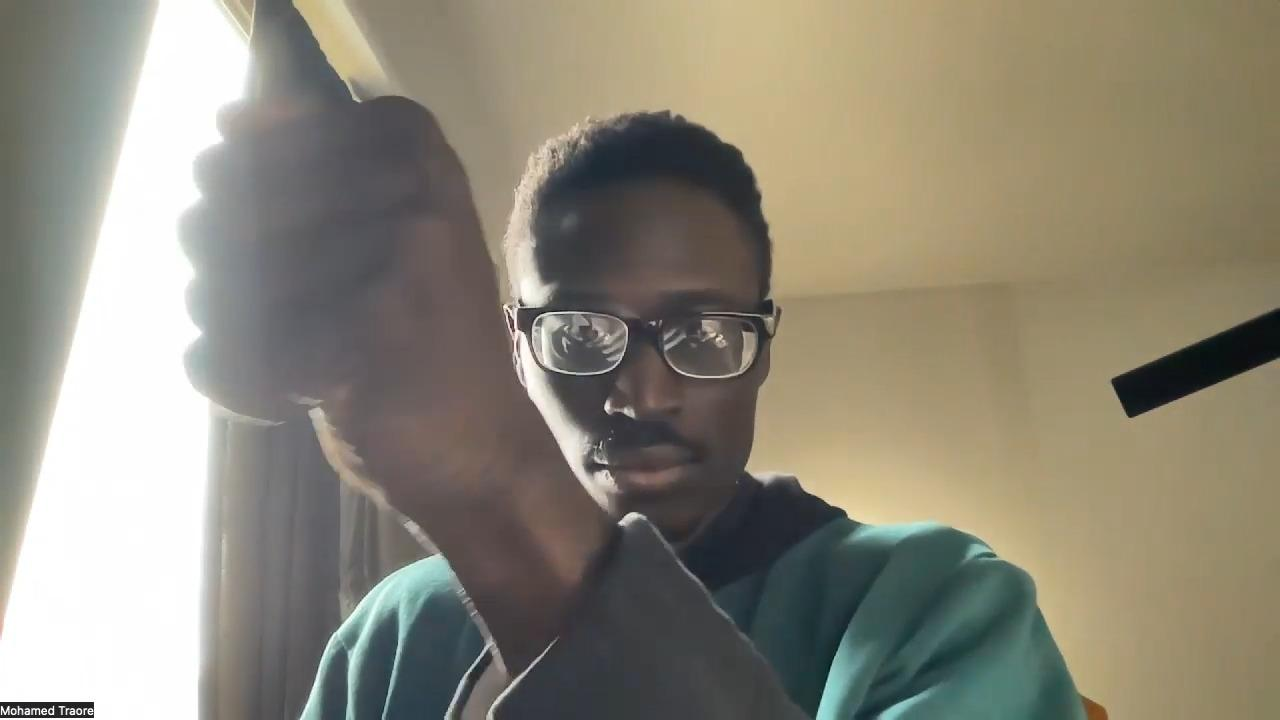Rock: (178, 87, 516, 511)
